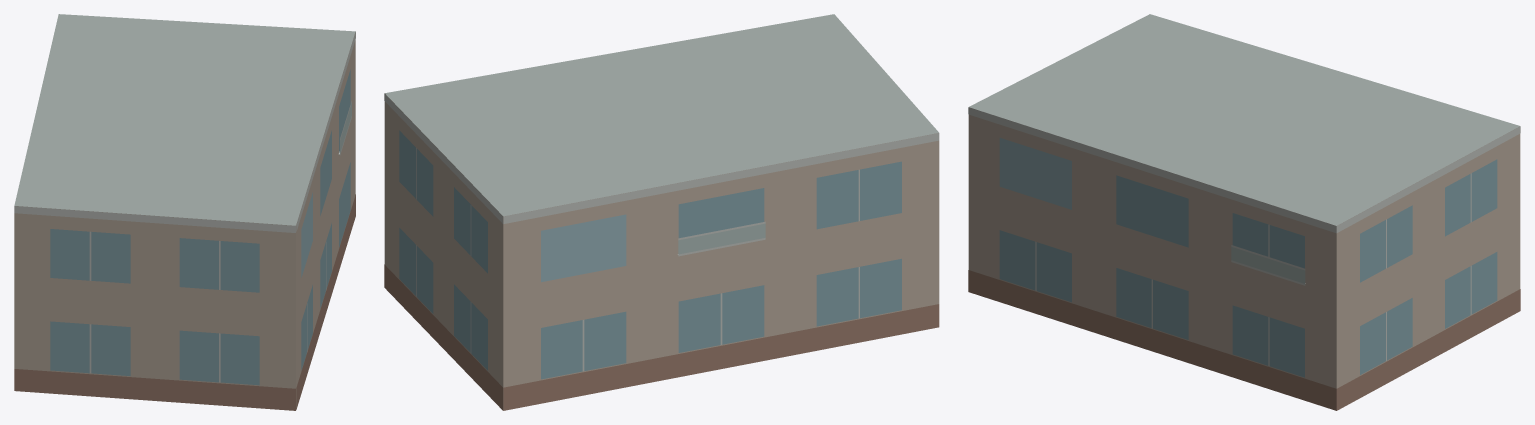
Rendered from survey-upis-32757748.glb.
The picture shows the model from 3 angles, left to right: view 1: azimuth 30°, elevation 25°; view 2: azimuth 150°, elevation 25°; view 3: azimuth 270°, elevation 25°; orthographic projection. The views are drawn at different scales.
Parts seen in each view (by area): view 1: survey-upis-32757748.tmp; view 2: survey-upis-32757748.tmp; view 3: survey-upis-32757748.tmp.
Part boxes in pixels (box(x1,y1,x2,y2)): survey-upis-32757748.tmp: box(14, 14, 355, 410); survey-upis-32757748.tmp: box(384, 14, 939, 410); survey-upis-32757748.tmp: box(968, 14, 1520, 410).
Bounding box in the file's own units: 15 × 6.1 × 16.51.
